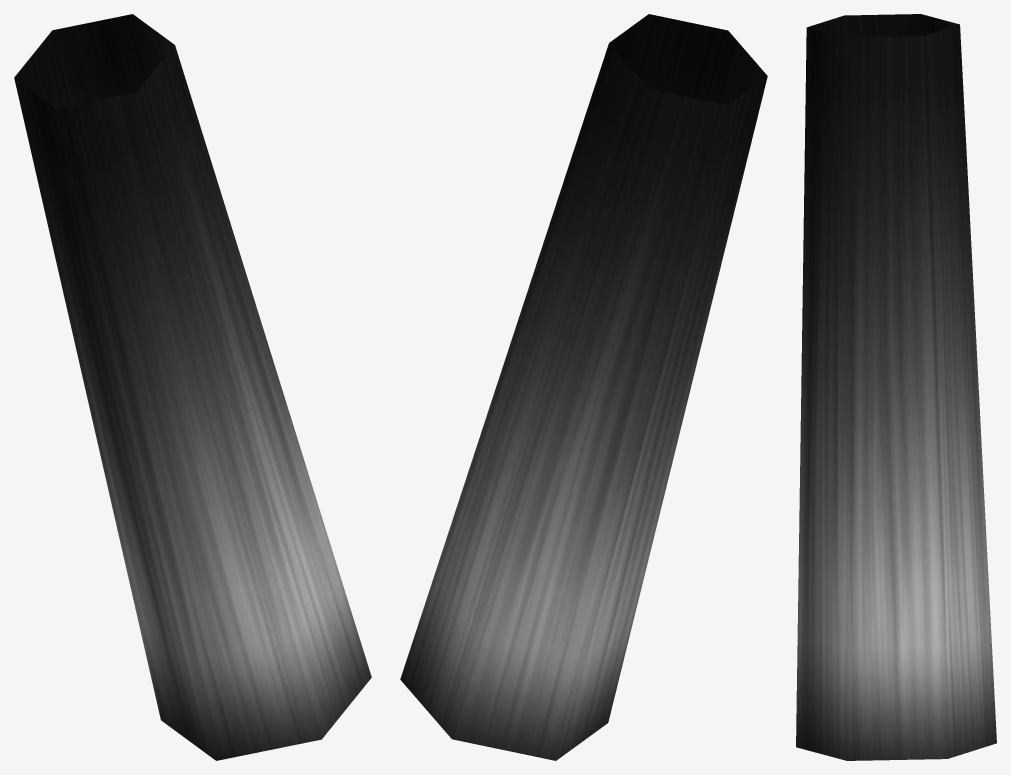
The model's file is caveShaft.fbx.
3 renders of one model, left to right at view 1: azimuth 30°, elevation 25°; view 2: azimuth 150°, elevation 25°; view 3: azimuth 270°, elevation 25°, orthographic. The views are drawn at different scales.
Parts seen in each view (by area): view 1: caveShaft; view 2: caveShaft; view 3: caveShaft.
Boxes of the visible parts, x1=… form: caveShaft: x1=14, y1=14, x2=371, y2=760; caveShaft: x1=400, y1=14, x2=767, y2=760; caveShaft: x1=796, y1=14, x2=996, y2=760.
Size of the model in its own units: 6.01 by 13.14 by 3.54.
